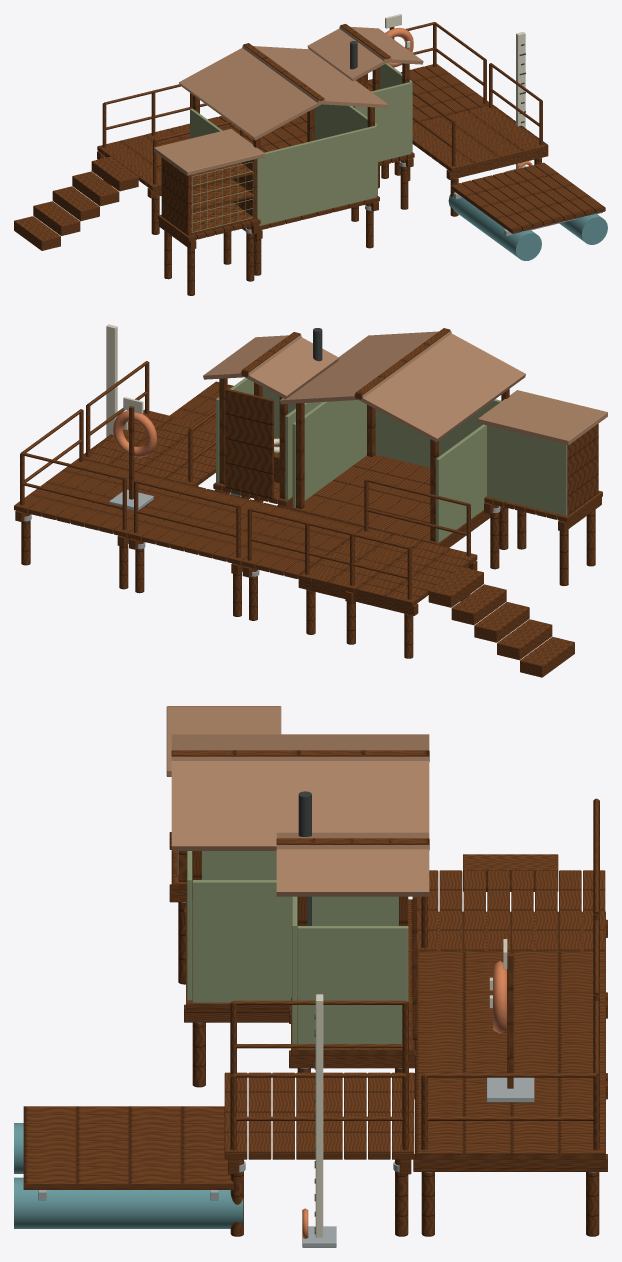
Rendered from flooded-and-coastal-survival-tidal-survi-eb169df9-starter-scene__20098.glb.
The picture shows the model from 3 angles, top to bottom: view 1: azimuth 30°, elevation 25°; view 2: azimuth 150°, elevation 25°; view 3: azimuth 270°, elevation 25°; orthographic projection. The views are drawn at different scales.
Parts seen in each view (by area): view 1: 004-stilt-shelter/3, 004-stilt-shelter/2, 008-shore-stair-landing/0, 006-elevated-pantry/0, 003-raised-boardwalk/0, 010-pontoon-dock/1, 002-boardwalk-elbow/0, 005-raised-latrine/3, 005-raised-latrine/2, 006-elevated-pantry/3, 010-pontoon-dock/0, 004-stilt-shelter/0 (+5 smaller); view 2: 008-shore-stair-landing/0, 004-stilt-shelter/2, 004-stilt-shelter/3, 004-stilt-shelter/0, 002-boardwalk-elbow/0, 001-boardwalk-junction/0, 003-raised-boardwalk/0, 000-boardwalk-junction/0, 006-elevated-pantry/2, 006-elevated-pantry/0, 005-raised-latrine/latrine-door/wood, 005-raised-latrine/2 (+7 smaller); view 3: 004-stilt-shelter/2, 003-raised-boardwalk/0, 002-boardwalk-elbow/0, 010-pontoon-dock/1, 008-shore-stair-landing/0, 005-raised-latrine/3, 004-stilt-shelter/3, 001-boardwalk-junction/0, 010-pontoon-dock/0, 005-raised-latrine/2, 000-boardwalk-junction/0, 004-stilt-shelter/0 (+9 smaller).
Boxes of the visible parts, x1=… form: 004-stilt-shelter/3: x1=190, y1=104, x2=377, y2=225; 004-stilt-shelter/2: x1=179, y1=45, x2=388, y2=140; 008-shore-stair-landing/0: x1=14, y1=85, x2=243, y2=250; 006-elevated-pantry/0: x1=158, y1=157, x2=260, y2=295; 003-raised-boardwalk/0: x1=408, y1=63, x2=548, y2=216; 010-pontoon-dock/1: x1=451, y1=162, x2=605, y2=233; 002-boardwalk-elbow/0: x1=368, y1=22, x2=488, y2=175; 005-raised-latrine/3: x1=354, y1=63, x2=412, y2=161; 005-raised-latrine/2: x1=307, y1=26, x2=423, y2=81; 006-elevated-pantry/3: x1=154, y1=129, x2=264, y2=175; 010-pontoon-dock/0: x1=448, y1=194, x2=607, y2=260; 004-stilt-shelter/0: x1=192, y1=43, x2=379, y2=275; 008-shore-stair-landing/0: x1=298, y1=478, x2=574, y2=677; 004-stilt-shelter/2: x1=280, y1=330, x2=525, y2=442; 004-stilt-shelter/3: x1=292, y1=399, x2=501, y2=542; 004-stilt-shelter/0: x1=290, y1=328, x2=509, y2=549; 002-boardwalk-elbow/0: x1=14, y1=409, x2=192, y2=589; 001-boardwalk-junction/0: x1=127, y1=480, x2=305, y2=616; 003-raised-boardwalk/0: x1=83, y1=361, x2=250, y2=498; 000-boardwalk-junction/0: x1=241, y1=507, x2=418, y2=644; 006-elevated-pantry/2: x1=487, y1=425, x2=567, y2=515; 006-elevated-pantry/0: x1=484, y1=423, x2=602, y2=585; 005-raised-latrine/latrine-door/wood: x1=225, y1=388, x2=273, y2=498; 005-raised-latrine/2: x1=203, y1=335, x2=338, y2=399; 004-stilt-shelter/2: x1=171, y1=734, x2=429, y2=850; 003-raised-boardwalk/0: x1=224, y1=1000, x2=414, y2=1236; 002-boardwalk-elbow/0: x1=413, y1=1000, x2=607, y2=1236; 010-pontoon-dock/1: x1=23, y1=1106, x2=233, y2=1189; 008-shore-stair-landing/0: x1=417, y1=798, x2=605, y2=950; 005-raised-latrine/3: x1=292, y1=896, x2=408, y2=1048; 004-stilt-shelter/3: x1=187, y1=851, x2=297, y2=1002; 001-boardwalk-junction/0: x1=414, y1=920, x2=607, y2=1081; 010-pontoon-dock/0: x1=14, y1=1123, x2=243, y2=1228; 005-raised-latrine/2: x1=276, y1=832, x2=429, y2=896; 000-boardwalk-junction/0: x1=417, y1=839, x2=607, y2=1000; 004-stilt-shelter/0: x1=171, y1=750, x2=429, y2=1087.
Bounding box in the file's own units: 9.22 × 3.5 × 6.22.
8 materials, 1 textured.
